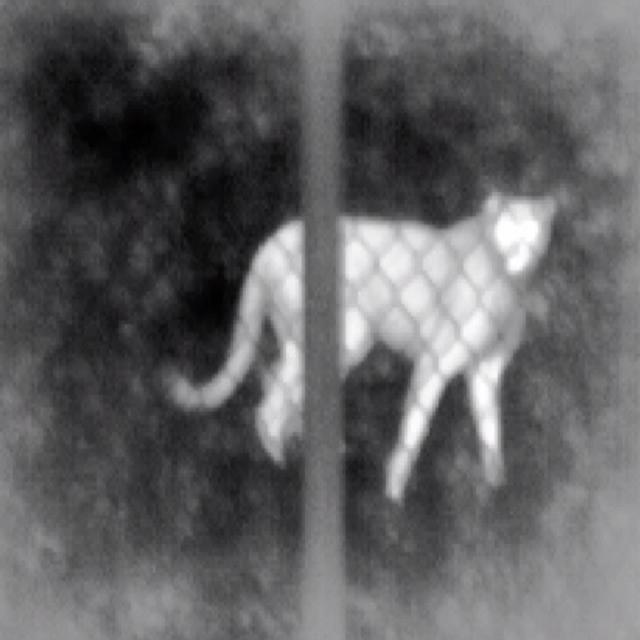cheetah: (159, 192, 559, 504)
